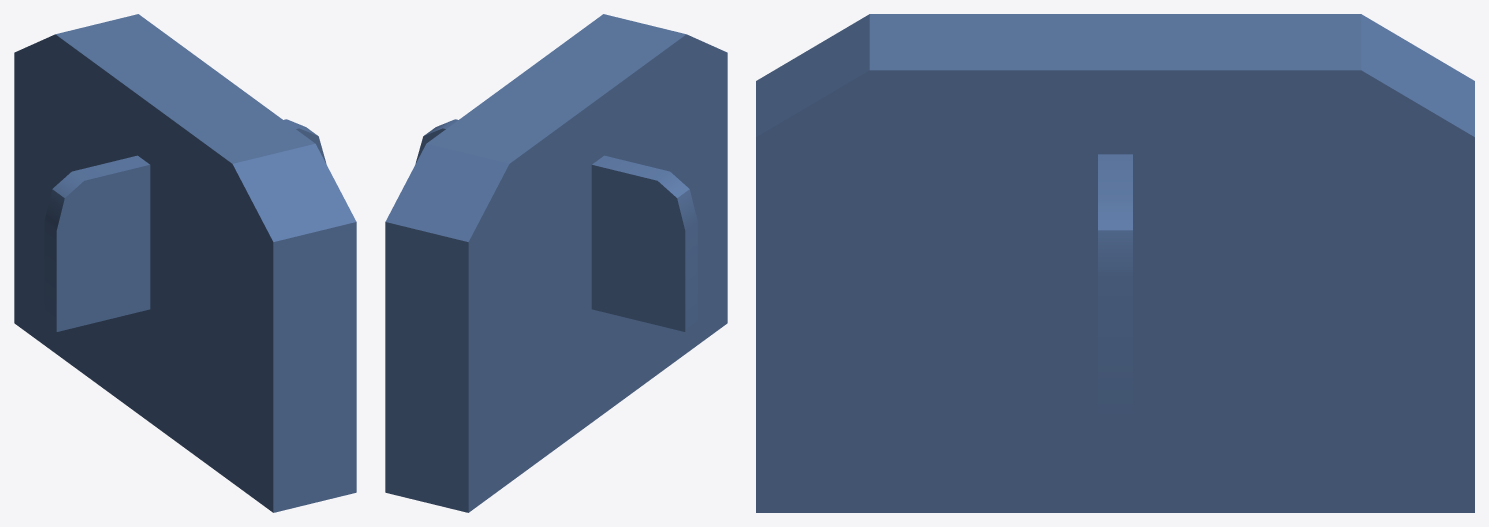
The model's file is MOD_LOBBY exitTurnstile.fbx.
The picture shows the model from 3 angles, left to right: view 1: azimuth 30°, elevation 25°; view 2: azimuth 150°, elevation 25°; view 3: azimuth 270°, elevation 25°; orthographic projection. The views are drawn at different scales.
Parts seen in each view (by area): view 1: exitTurnstileBody, R_exitturnstileDoor; view 2: exitTurnstileBody, R_exitturnstileDoor; view 3: exitTurnstileBody, L_exitturnstileDoor.
Part boxes in pixels (left/top/right/bottom): exitTurnstileBody: left=14, top=14, right=356, bottom=512; R_exitturnstileDoor: left=44, top=155, right=150, bottom=331; exitTurnstileBody: left=385, top=14, right=727, bottom=512; R_exitturnstileDoor: left=591, top=155, right=697, bottom=331; exitTurnstileBody: left=756, top=14, right=1474, bottom=512; L_exitturnstileDoor: left=1098, top=154, right=1132, bottom=418.
Bounding box in the file's own units: 99.5 × 112 × 165.
